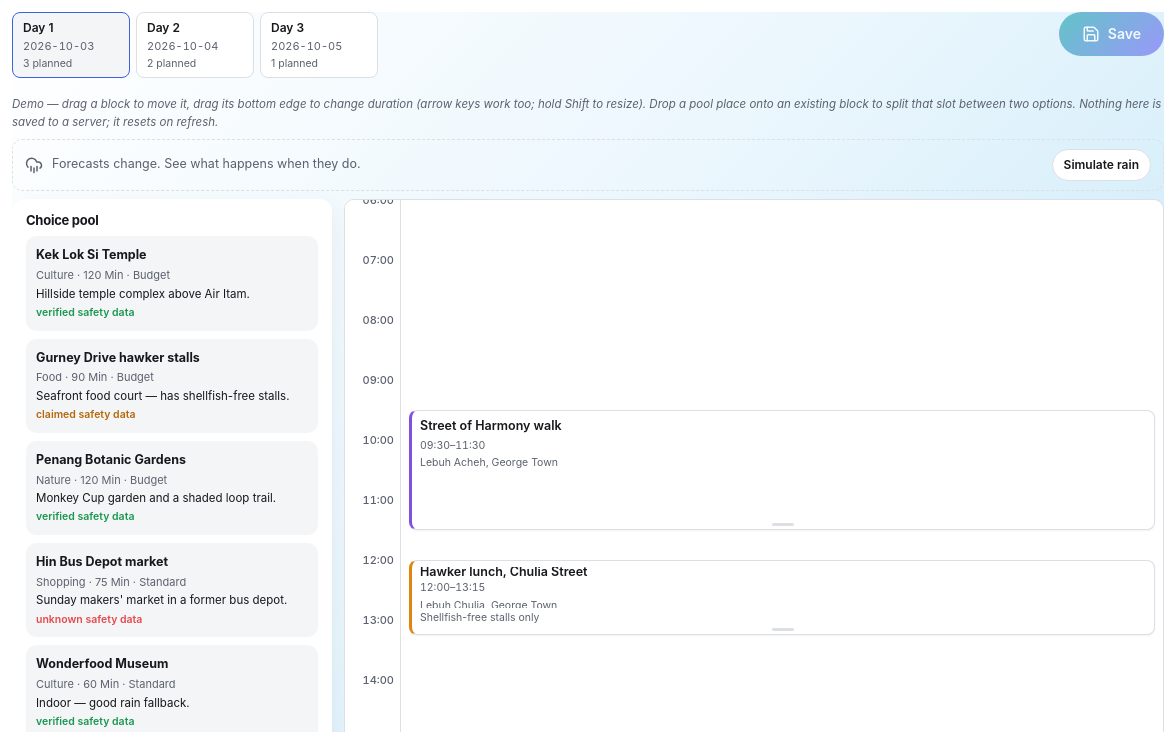
Test: DemoTimeline drag/resize › keeps a locked block non-interactive
// switch to day 2, where the guided Peranakan Mansion block is locked
What coordinates should you click on to do the following:
click the tab "Day 2 2026-10-04 2 planned"
I would click on:
 (195, 45)
Its box is [136, 12, 254, 78].
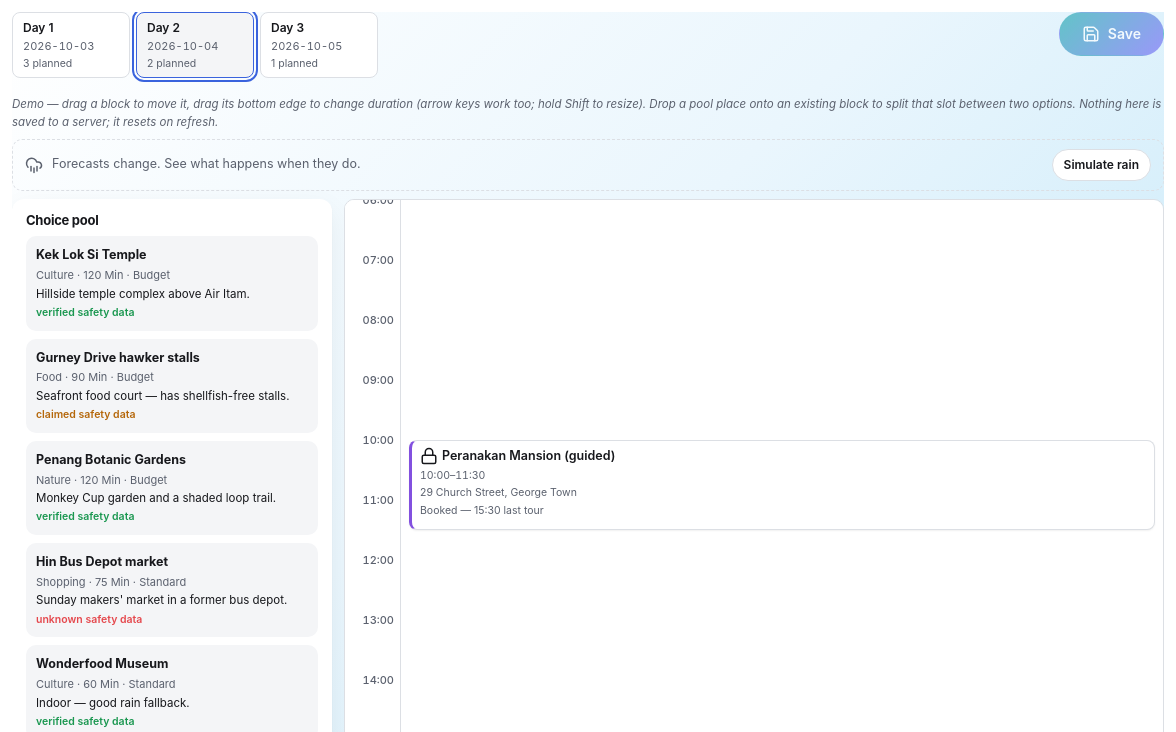
Check: the text "Peranakan Mansion (guided)" is shown, box [420, 447, 615, 466]
